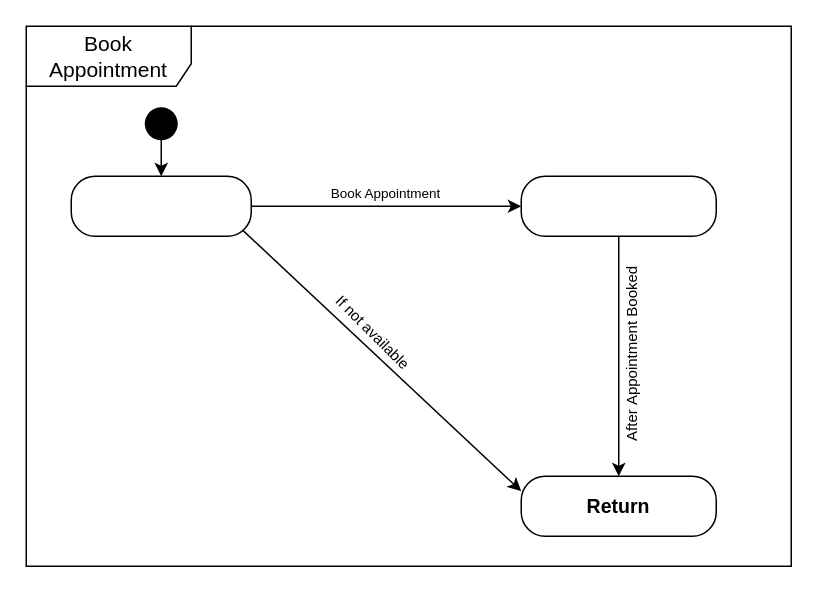
This 818x593 diagram has some shape labels left out. Here are the shapes that lost their labels. From the top down, the centre of each, then its label:
the point at 160,205: Doctor Available
the point at 618,205: Appointment Booked
